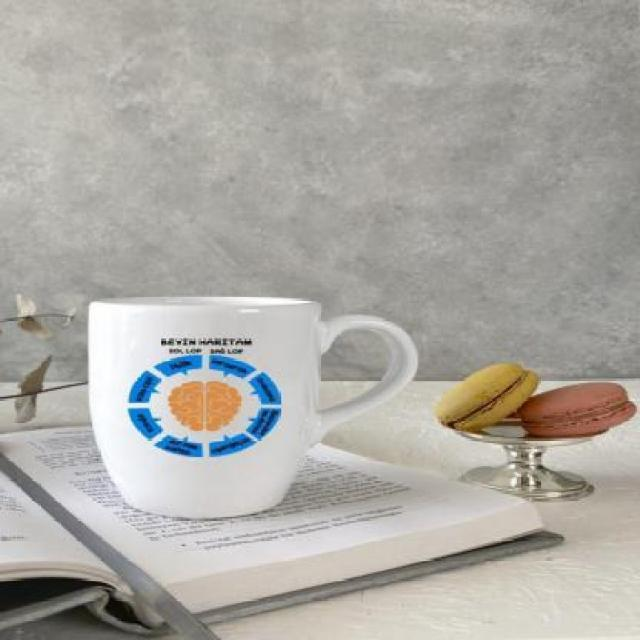taza: (86, 296, 416, 518)
